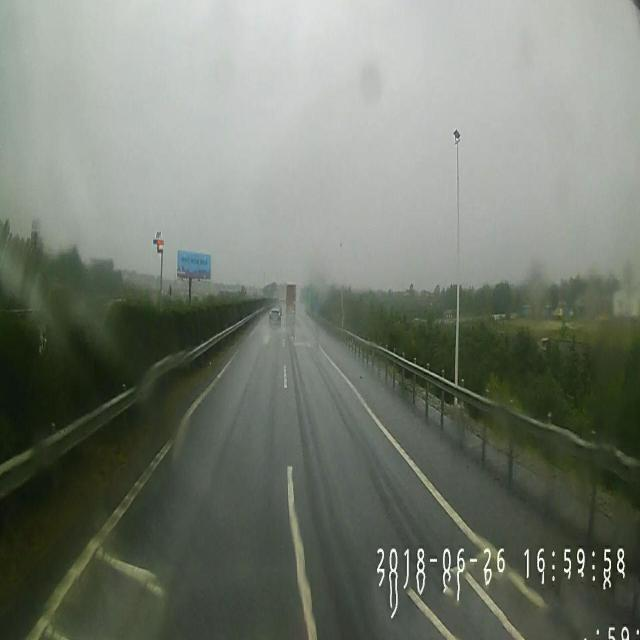car: (269, 306, 281, 328)
